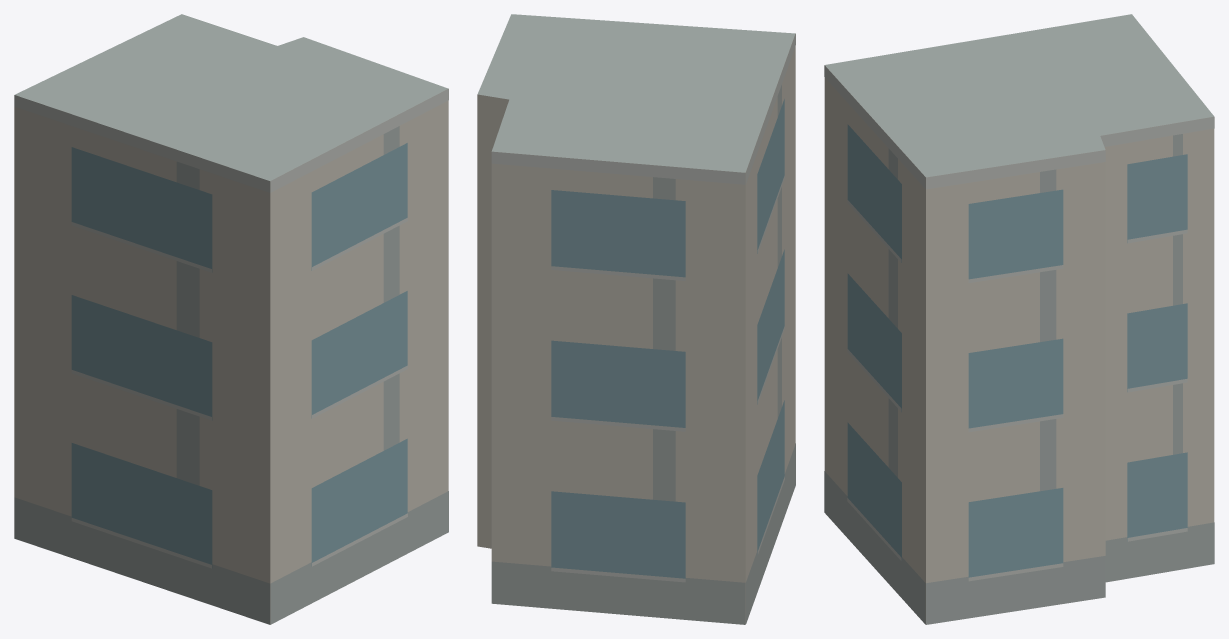
The model's file is survey-upis-32538148.glb.
3 renders of one model, left to right at view 1: azimuth 30°, elevation 25°; view 2: azimuth 150°, elevation 25°; view 3: azimuth 270°, elevation 25°, orthographic.
Parts seen in each view (by area): view 1: survey-upis-32538148.tmp; view 2: survey-upis-32538148.tmp; view 3: survey-upis-32538148.tmp.
Boxes of the visible parts, x1=… form: survey-upis-32538148.tmp: x1=14, y1=14, x2=448, y2=624; survey-upis-32538148.tmp: x1=477, y1=14, x2=795, y2=624; survey-upis-32538148.tmp: x1=824, y1=14, x2=1214, y2=624.
Size of the model in its own units: 7.18 by 9.15 by 7.24.
